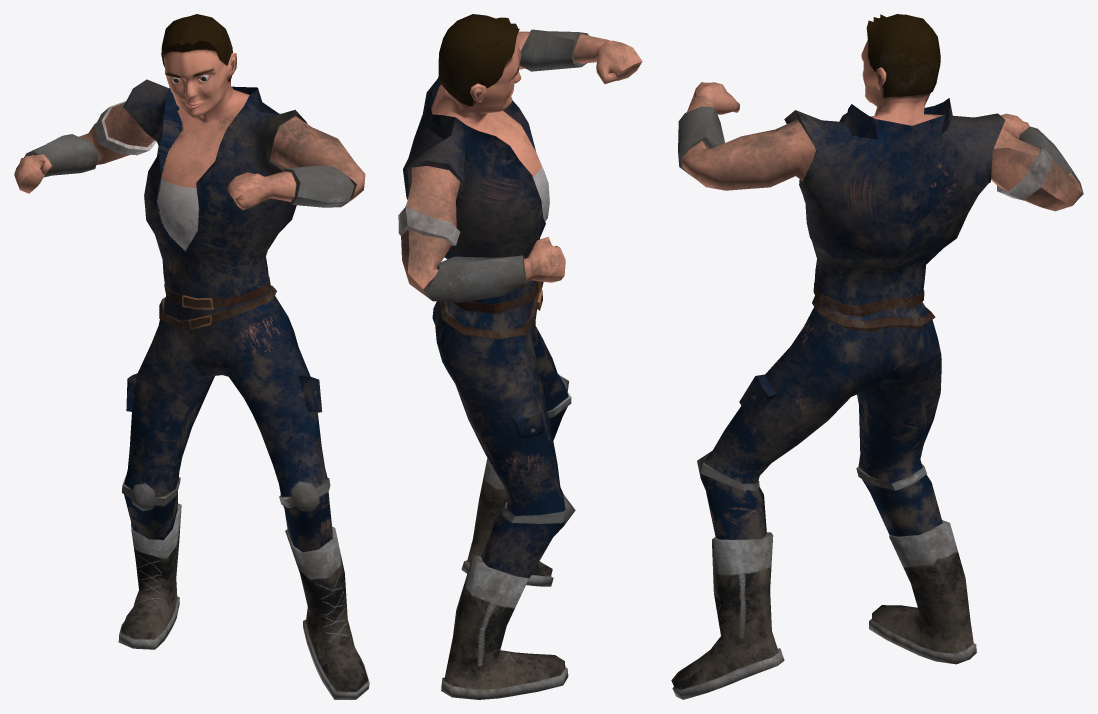
The model's file is Anim_especial_jugador.0019.obj.
3 views of the same model, side by side, from view 1: azimuth 30°, elevation 25°; view 2: azimuth 150°, elevation 25°; view 3: azimuth 270°, elevation 25° (orthographic). The views are drawn at different scales.
Visible parts, largest first — view 1: polySurface1; view 2: polySurface1; view 3: polySurface1.
Part boxes in pixels (x1,y1,x2,y2): polySurface1: (14,14,369,699); polySurface1: (398,14,642,699); polySurface1: (671,14,1083,699).
Bounding box in the file's own units: 3.31 × 9.38 × 5.38.
